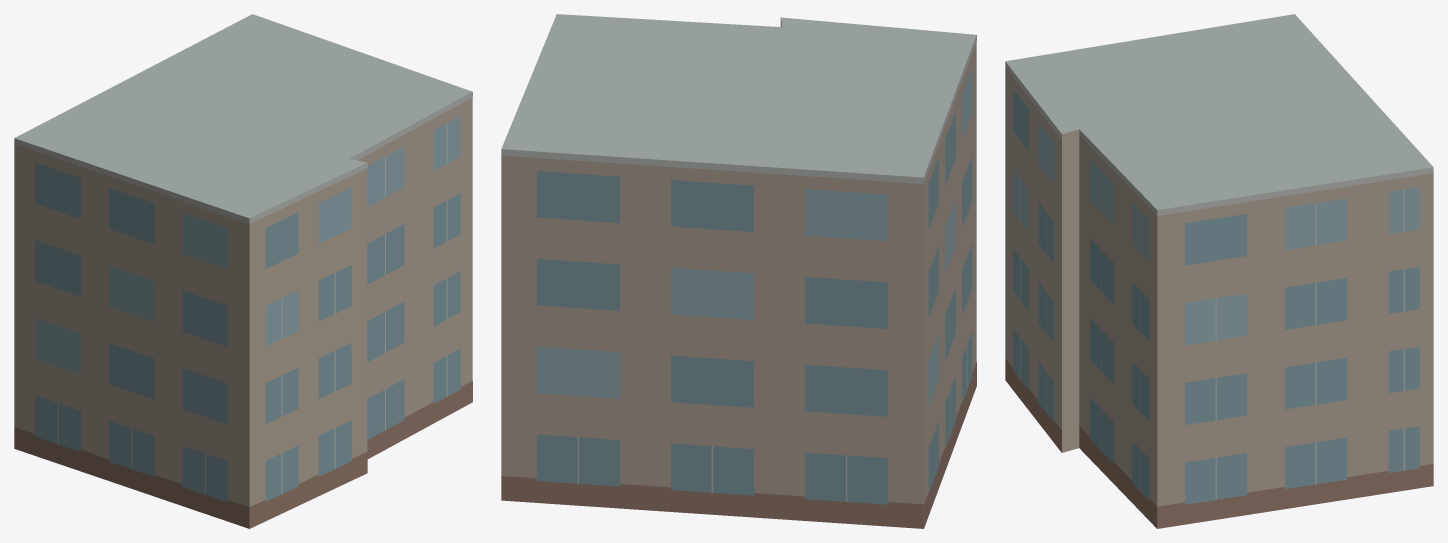
Rendered from survey-upis-32863938.glb.
The picture shows the model from 3 angles, left to right: view 1: azimuth 30°, elevation 25°; view 2: azimuth 150°, elevation 25°; view 3: azimuth 270°, elevation 25°; orthographic projection. The views are drawn at different scales.
Parts seen in each view (by area): view 1: survey-upis-32863938.tmp; view 2: survey-upis-32863938.tmp; view 3: survey-upis-32863938.tmp.
Boxes of the visible parts, <box> form: survey-upis-32863938.tmp: <box>14,14,472,528</box>; survey-upis-32863938.tmp: <box>501,14,976,528</box>; survey-upis-32863938.tmp: <box>1005,14,1433,528</box>.
Size of the model in its own units: 17.42 by 13.2 by 16.09.
